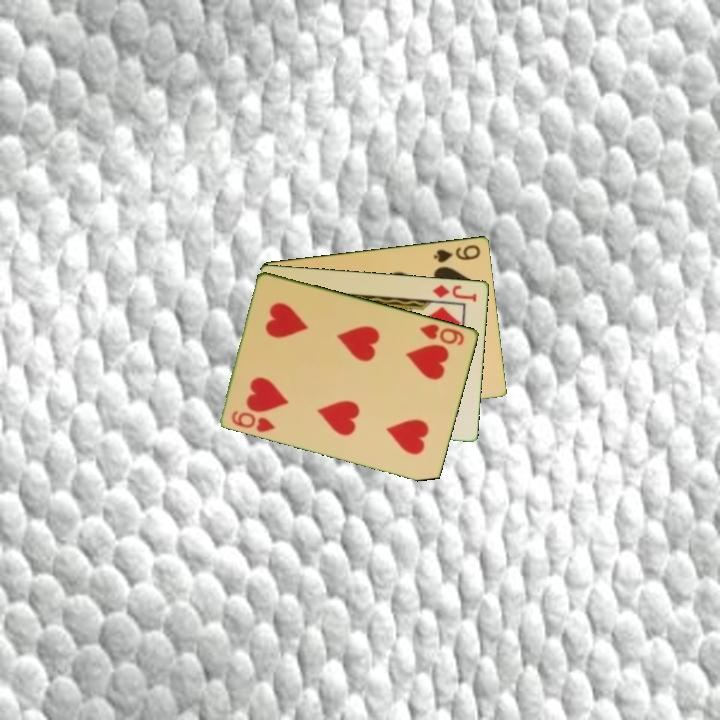6h: (417, 320, 467, 348), (228, 407, 278, 435)
9s: (431, 241, 483, 265)
Jd: (429, 281, 480, 304)
